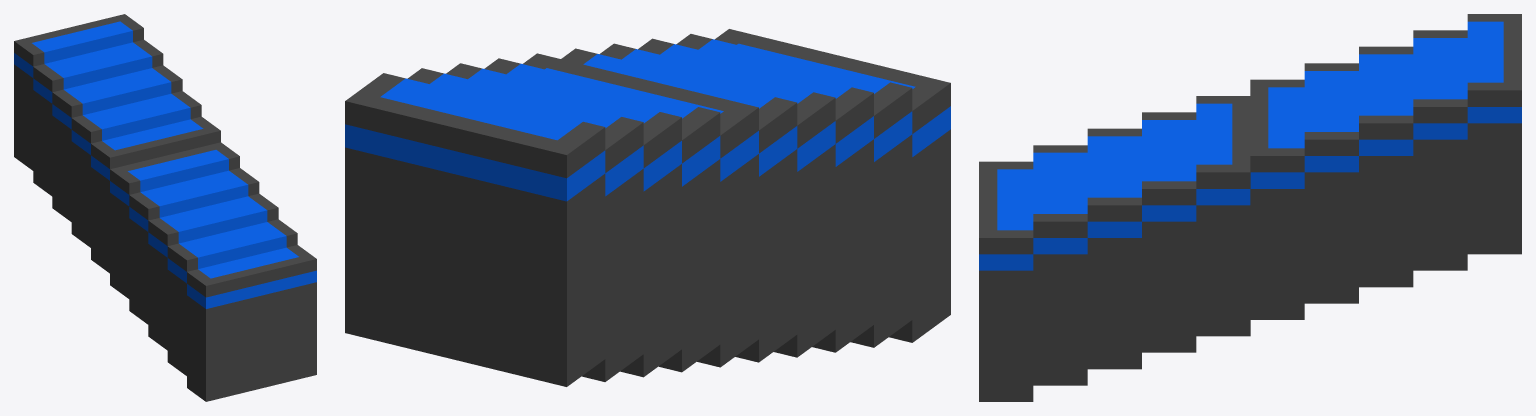
Rendered from ledder.fbx.
3 renders of one model, left to right at view 1: azimuth 30°, elevation 25°; view 2: azimuth 150°, elevation 25°; view 3: azimuth 270°, elevation 25°, orthographic. The views are drawn at different scales.
Visible parts, largest first — view 1: Ledder; view 2: Ledder; view 3: Ledder.
Part boxes in pixels (bbox=[...]): Ledder: bbox=[14, 14, 316, 401]; Ledder: bbox=[345, 29, 950, 386]; Ledder: bbox=[979, 14, 1521, 401].
Bounding box in the file's own units: 100 × 190 × 300.
